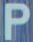Parking: (2, 1, 29, 41)
